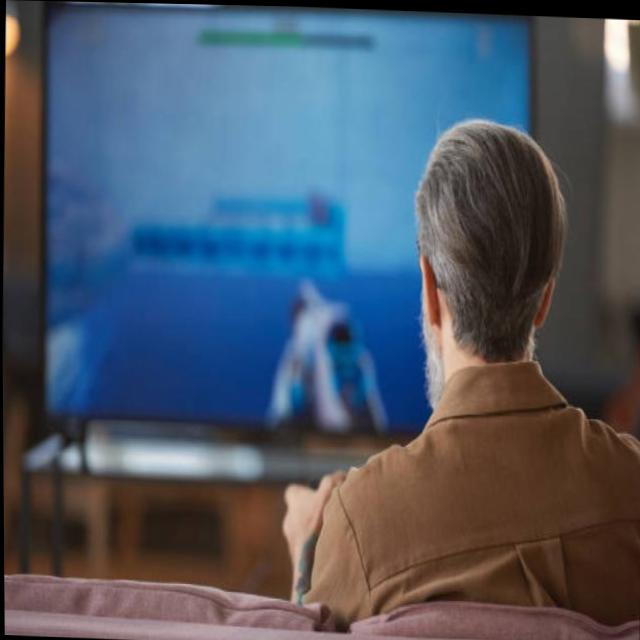no helmet: (382, 117, 564, 399)
